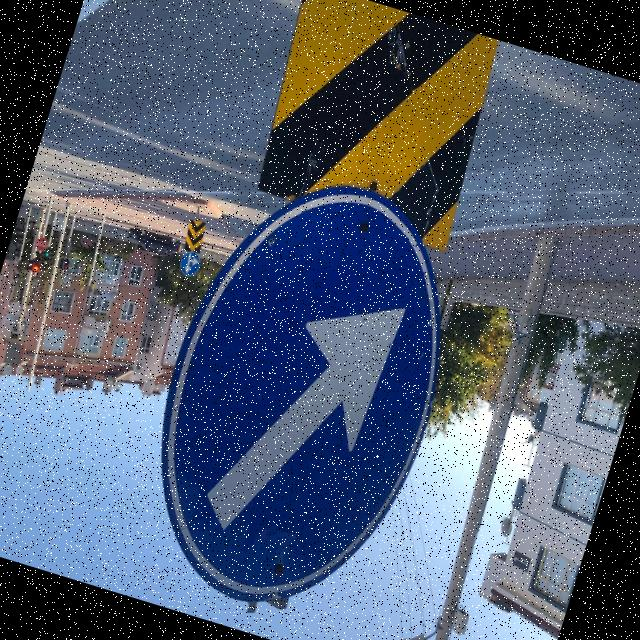compulsory_keep_right: (108, 151, 486, 640)
